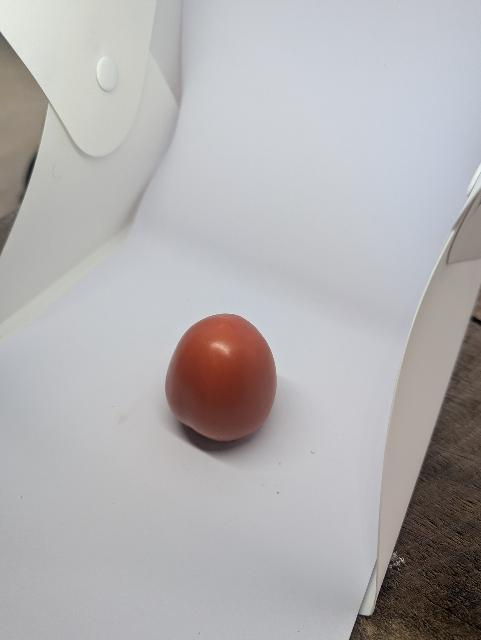red: (160, 304, 287, 456)
